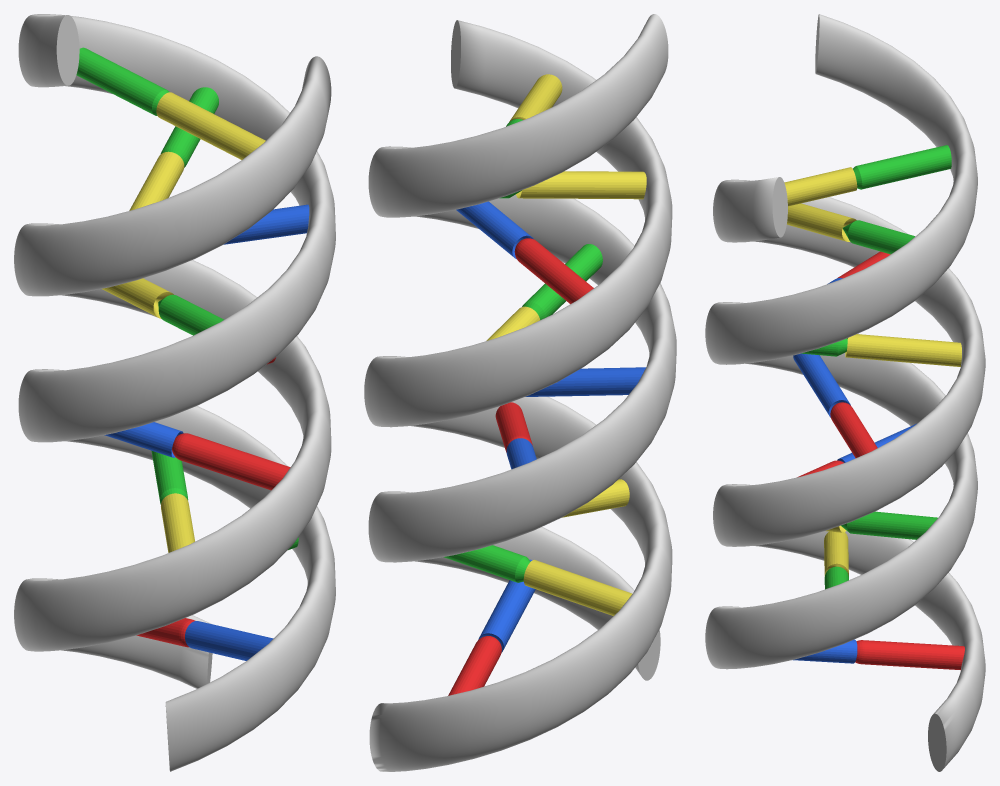
File: dna-6.gltf
3 views of the same model, side by side, from view 1: azimuth 30°, elevation 25°; view 2: azimuth 150°, elevation 25°; view 3: azimuth 270°, elevation 25° (orthographic). The views are drawn at different scales.
Parts seen in each view (by area): view 1: Phosphate Backbone, Adenine (A).003, Cytosine (C), Guanine (G), Thymine (T).004, Thymine (T).001, Cytosine (C).001, Guanine (G).002, Cytosine (C).003, Thymine (T).003, Guanine (G).001, Cytosine (C).002 (+2 smaller); view 2: Phosphate Backbone, Cytosine (C).001, Cytosine (C).004, Thymine (T).002, Adenine (A).001, Thymine (T).004, Thymine (T).001, Guanine (G).004, Guanine (G).002, Adenine (A).004, Cytosine (C), Adenine (A).003 (+3 smaller); view 3: Phosphate Backbone, Cytosine (C).002, Adenine (A).004, Guanine (G), Guanine (G).003, Cytosine (C), Cytosine (C).001, Thymine (T).002, Guanine (G).001, Adenine (A).002, Cytosine (C).004, Thymine (T).004.
Part boxes in pixels (x1=…): Phosphate Backbone: x1=14, y1=14, x2=335, y2=771; Adenine (A).003: x1=172, y1=433, x2=290, y2=490; Cytosine (C): x1=156, y1=92, x2=265, y2=159; Guanine (G): x1=76, y1=47, x2=169, y2=115; Thymine (T).004: x1=185, y1=621, x2=273, y2=660; Thymine (T).001: x1=223, y1=204, x2=309, y2=244; Cytosine (C).001: x1=129, y1=151, x2=184, y2=210; Guanine (G).002: x1=158, y1=294, x2=223, y2=335; Cytosine (C).003: x1=161, y1=493, x2=194, y2=552; Thymine (T).003: x1=104, y1=422, x2=183, y2=457; Guanine (G).001: x1=160, y1=87, x2=218, y2=167; Cytosine (C).002: x1=102, y1=278, x2=173, y2=318; Phosphate Backbone: x1=364, y1=14, x2=676, y2=771; Cytosine (C).001: x1=516, y1=171, x2=646, y2=199; Cytosine (C).004: x1=523, y1=559, x2=632, y2=615; Thymine (T).002: x1=525, y1=367, x2=645, y2=396; Adenine (A).001: x1=514, y1=238, x2=593, y2=303; Thymine (T).004: x1=478, y1=559, x2=535, y2=652; Thymine (T).001: x1=456, y1=201, x2=533, y2=259; Guanine (G).004: x1=444, y1=545, x2=530, y2=582; Guanine (G).002: x1=522, y1=244, x2=602, y2=319; Adenine (A).004: x1=448, y1=636, x2=501, y2=695; Cytosine (C): x1=509, y1=74, x2=562, y2=121; Adenine (A).003: x1=495, y1=402, x2=532, y2=452; Phosphate Backbone: x1=705, y1=14, x2=985, y2=771; Cytosine (C).002: x1=845, y1=334, x2=961, y2=366; Adenine (A).004: x1=855, y1=640, x2=964, y2=670; Guanine (G): x1=853, y1=145, x2=951, y2=189; Guanine (G).003: x1=841, y1=511, x2=937, y2=539; Cytosine (C): x1=784, y1=167, x2=857, y2=206; Cytosine (C).001: x1=787, y1=203, x2=856, y2=241; Thymine (T).002: x1=793, y1=353, x2=850, y2=417; Guanine (G).001: x1=842, y1=220, x2=914, y2=254; Adenine (A).002: x1=830, y1=402, x2=877, y2=457; Cytosine (C).004: x1=824, y1=531, x2=848, y2=576; Thymine (T).004: x1=793, y1=639, x2=857, y2=663.
Size of the model in its own units: 1.12 by 3.04 by 1.15.
